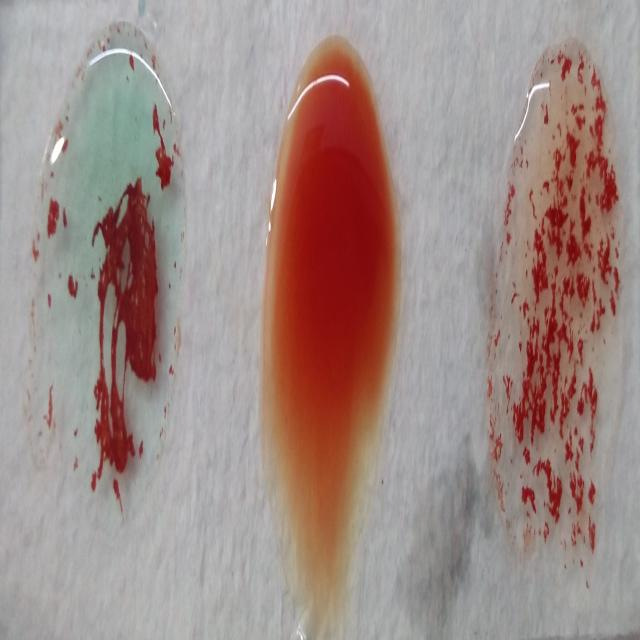A: (40, 40, 186, 524)
D: (487, 32, 620, 560)
